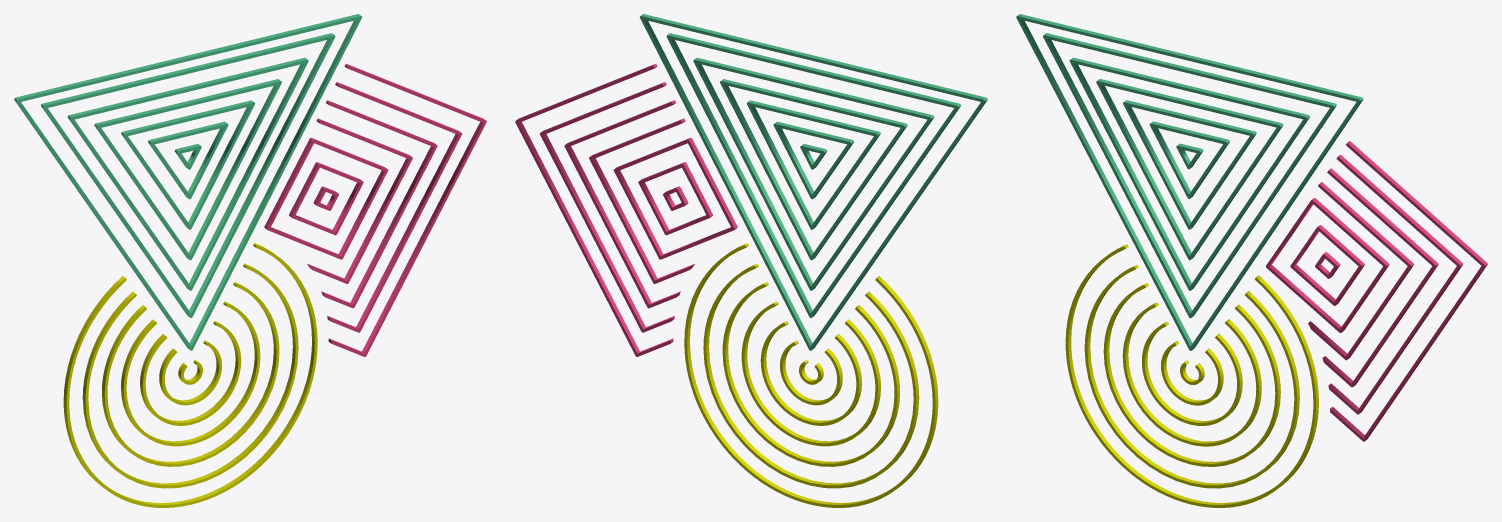
Rendered from hypernatural-extruded-mesh.glb.
The picture shows the model from 3 angles, left to right: view 1: azimuth 30°, elevation 25°; view 2: azimuth 150°, elevation 25°; view 3: azimuth 330°, elevation 25°; orthographic projection.
Parts seen in each view (by area): view 1: T6, T5, T4, C6, C5, T3, C4, S6, T2, S5, C3, S2 (+6 smaller); view 2: T6, T5, T4, C6, C5, T3, C4, S6, T2, S5, C3, S2 (+6 smaller); view 3: T6, T5, T4, C6, C5, T3, C4, S6, T2, S5, C3, S2 (+6 smaller).
Boxes of the visible parts, x1=… form: T6: x1=14, y1=14, x2=362, y2=350; T5: x1=41, y1=33, x2=335, y2=317; T4: x1=67, y1=57, x2=308, y2=290; C6: x1=63, y1=243, x2=317, y2=507; C5: x1=82, y1=263, x2=298, y2=488; T3: x1=94, y1=79, x2=281, y2=260; C4: x1=102, y1=282, x2=279, y2=466; S6: x1=328, y1=63, x2=486, y2=356; T2: x1=121, y1=100, x2=255, y2=229; S5: x1=327, y1=82, x2=461, y2=332; C3: x1=121, y1=301, x2=260, y2=446; S2: x1=264, y1=137, x2=388, y2=259; T6: x1=639, y1=14, x2=987, y2=350; T5: x1=666, y1=33, x2=960, y2=317; T4: x1=693, y1=57, x2=934, y2=290; C6: x1=684, y1=243, x2=938, y2=507; C5: x1=703, y1=263, x2=919, y2=488; T3: x1=720, y1=79, x2=907, y2=260; C4: x1=722, y1=282, x2=899, y2=466; S6: x1=515, y1=63, x2=673, y2=356; T2: x1=746, y1=100, x2=880, y2=229; S5: x1=540, y1=82, x2=674, y2=332; C3: x1=741, y1=301, x2=880, y2=446; S2: x1=613, y1=137, x2=737, y2=259; T6: x1=1016, y1=14, x2=1363, y2=350; T5: x1=1043, y1=33, x2=1336, y2=318; T4: x1=1069, y1=57, x2=1309, y2=290; C6: x1=1065, y1=244, x2=1318, y2=507; C5: x1=1084, y1=264, x2=1299, y2=488; T3: x1=1096, y1=79, x2=1283, y2=260; C4: x1=1103, y1=283, x2=1280, y2=466; S6: x1=1330, y1=141, x2=1487, y2=441; T2: x1=1123, y1=100, x2=1256, y2=229; S5: x1=1328, y1=154, x2=1462, y2=414; C3: x1=1122, y1=302, x2=1261, y2=446; S2: x1=1266, y1=198, x2=1389, y2=332.
Size of the model in its own units: 0.9544 by 0.8681 by 0.01.
